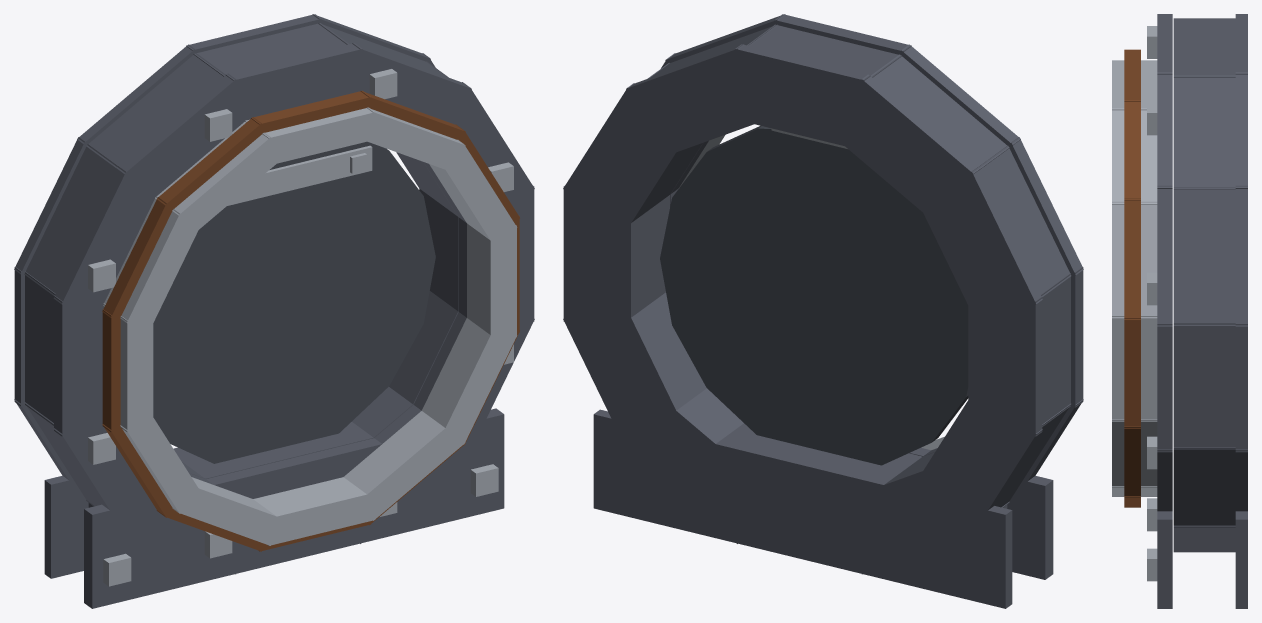
The model's file is CatCafe_CatFlap_PipeRing.glb.
3 views of the same model, side by side, from view 1: azimuth 30°, elevation 25°; view 2: azimuth 150°, elevation 25°; view 3: azimuth 270°, elevation 25° (orthographic). The views are drawn at different scales.
Visible parts, largest first — view 1: CatCafe_CatFlap_PipeRing, CatCafe_CatFlap_PipeRing_Flap; view 2: CatCafe_CatFlap_PipeRing, CatCafe_CatFlap_PipeRing_Flap; view 3: CatCafe_CatFlap_PipeRing.
Part boxes in pixels (bbox=[...]): CatCafe_CatFlap_PipeRing: bbox=[14, 14, 534, 608]; CatCafe_CatFlap_PipeRing_Flap: bbox=[153, 141, 435, 463]; CatCafe_CatFlap_PipeRing: bbox=[563, 14, 1083, 608]; CatCafe_CatFlap_PipeRing_Flap: bbox=[660, 125, 968, 465]; CatCafe_CatFlap_PipeRing: bbox=[1112, 14, 1247, 608].
Bounding box in the file's own units: 2.53 × 2.53 × 0.66.
1 material, 1 textured.
